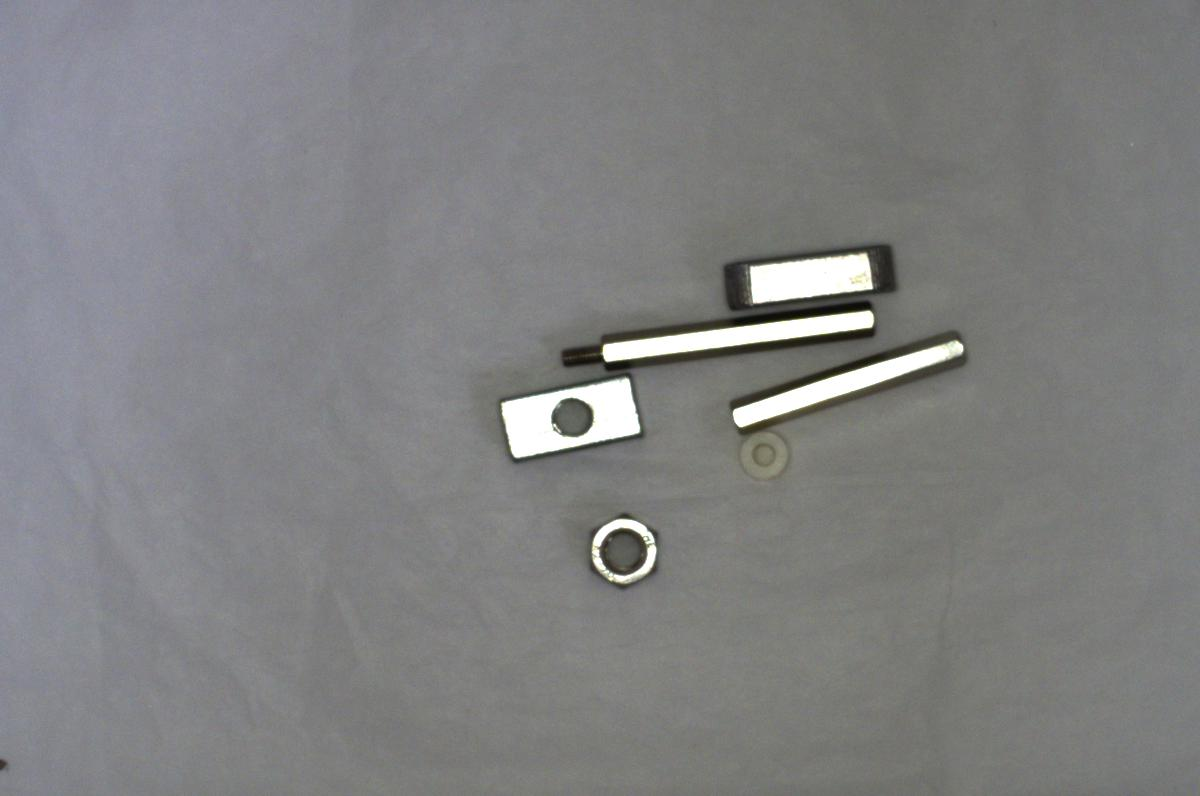Double hexagonal column: (730, 328, 965, 428)
Hexagon nut: (575, 508, 666, 592)
Hexagonal steel column: (560, 296, 886, 378)
Keybar: (713, 247, 907, 310)
Plastic cushion pillar: (730, 427, 797, 481)
Rectangular nut: (493, 370, 647, 465)
